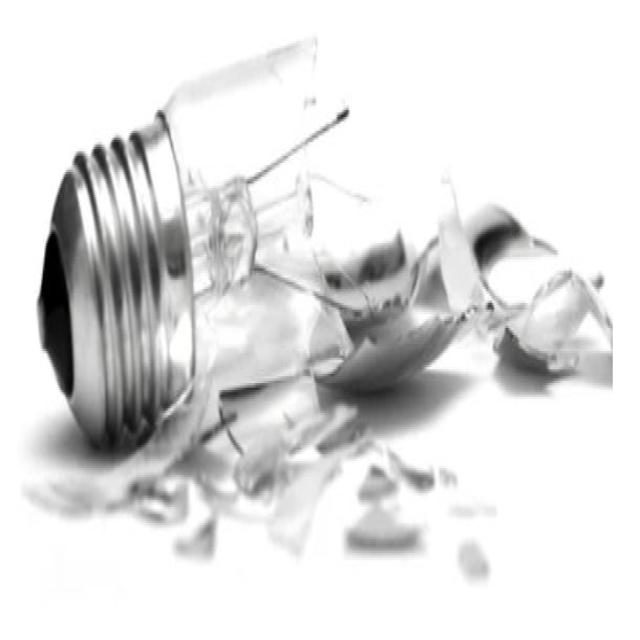electronic: (36, 30, 350, 456)
